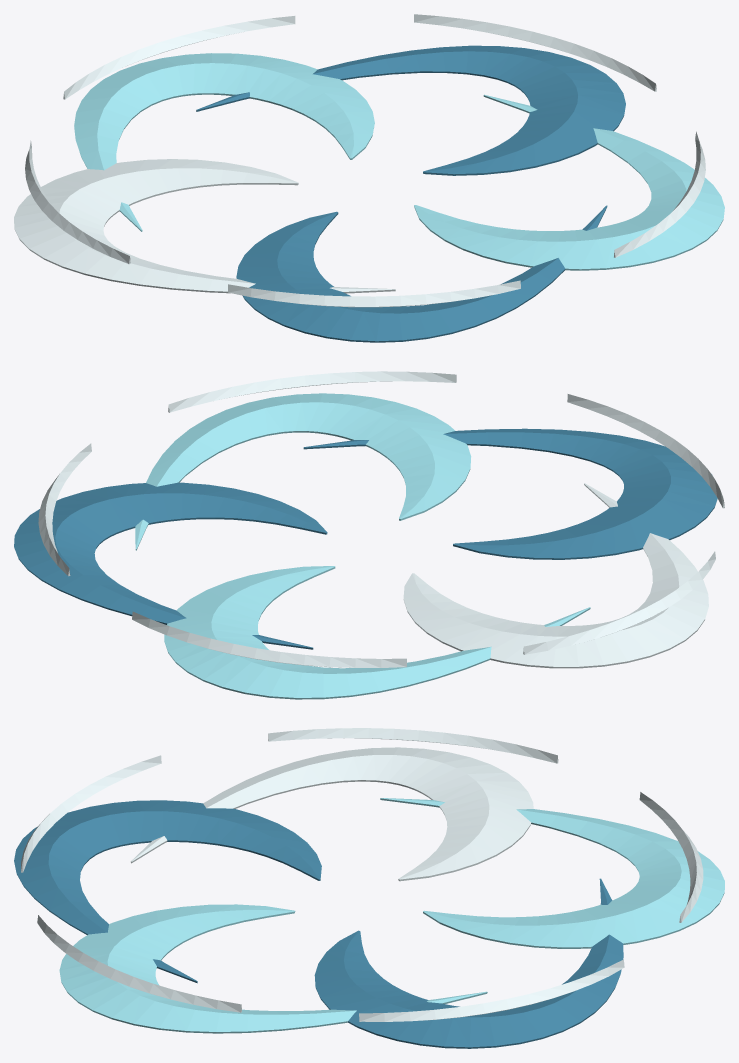
Rendered from VFX_51_TempestaRasoioEolico.fbx.
The picture shows the model from 3 angles, top to bottom: view 1: azimuth 30°, elevation 25°; view 2: azimuth 150°, elevation 25°; view 3: azimuth 270°, elevation 25°; orthographic projection.
Visible parts, largest first — view 1: VFX_51_TempestaRasoioEolico; view 2: VFX_51_TempestaRasoioEolico; view 3: VFX_51_TempestaRasoioEolico.
Boxes of the visible parts, bbox=[...] form: VFX_51_TempestaRasoioEolico: bbox=[14, 14, 724, 342]; VFX_51_TempestaRasoioEolico: bbox=[14, 371, 724, 699]; VFX_51_TempestaRasoioEolico: bbox=[14, 728, 724, 1048].
Bounding box in the file's own units: 315 × 16.4 × 316.
1 material, 1 textured.
